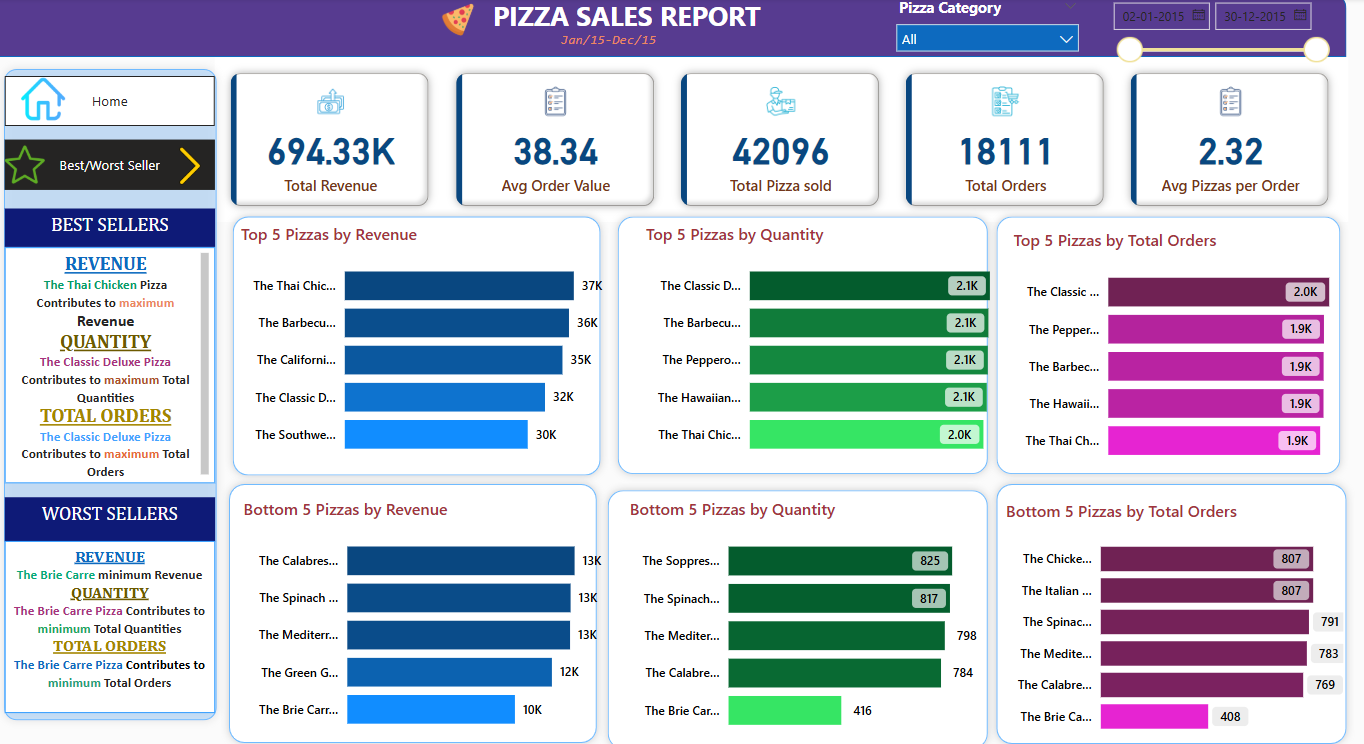

Layout of this report page (visuals, bound fields, positions):
{"tool":"powerbi","page":{"name":"Best/Worst Seller","canvas":[1500,820],"ordinal":1},"visuals":[{"type":"cardVisual","fields":{"Data":["pizza_sales.Total Revenue","pizza_sales.Avg Order Value","pizza_sales.Total Pizza sold","pizza_sales.Total Orders","pizza_sales.Avg Pizzas per Order"]},"box":[218.8,65,1133.8,165],"z":0},{"type":"shape","box":[0,68.8,228.8,667.5],"z":1000},{"type":"shape","box":[0,0,1350,65],"z":2000},{"type":"textbox","box":[475,0,311.2,48.8],"z":3000},{"type":"textbox","box":[475,32.5,275,32.5],"z":4000},{"type":"image","box":[417.5,6.2,88.8,42.5],"z":5000},{"type":"shape","box":[228.8,216.2,410,275],"z":6000},{"type":"textbox","box":[8.8,216.2,210,38.8],"z":7000},{"type":"textbox","box":[8.8,255,210,240],"z":8000},{"type":"textbox","box":[8.8,523.8,210,43.8],"z":9000},{"type":"textbox","box":[8.8,567.5,210,153.8],"z":10000},{"type":"slicer","fields":{"Values":["pizza_sales.pizza_category"]},"box":[890,0,203,65],"z":11000},{"type":"slicer","fields":{"Values":["pizza_sales.order_date"]},"box":[1105,0,236.2,91.2],"z":12000},{"type":"shape","box":[631,216,410,275],"z":13000},{"type":"shape","box":[1034,216,410,275],"z":14000},{"type":"shape","box":[229,491,410,275],"z":15000},{"type":"shape","box":[631,495,410,275],"z":16000},{"type":"shape","box":[1034,491,410,275],"z":17000},{"type":"barChart","title":"Top 5 Pizzas by Revenue","fields":{"Category":["pizza_sales.pizza_name"],"Y":["pizza_sales.Total Revenue"]},"box":[240,230,382.5,247.5],"z":18000},{"type":"barChart","title":"Bottom 5 Pizzas by Revenue","fields":{"Category":["pizza_sales.pizza_name"],"Y":["pizza_sales.Total Revenue"]},"box":[242.5,505,382.5,247.5],"z":19000},{"type":"barChart","title":"Top 5 Pizzas by Quantity","fields":{"Category":["pizza_sales.pizza_name"],"Y":["pizza_sales.Total Pizza sold"]},"box":[645,230,382.5,247.5],"z":20000},{"type":"barChart","title":"Bottom 5 Pizzas by Quantity","fields":{"Category":["pizza_sales.pizza_name"],"Y":["pizza_sales.Total Pizza sold"]},"box":[645,508.8,382.5,247.5],"z":21000},{"type":"barChart","title":"Top 5 Pizzas by Total Orders","fields":{"Category":["pizza_sales.pizza_name"],"Y":["pizza_sales.Total Orders"]},"box":[1047.5,236.2,382.5,247.5],"z":22000},{"type":"barChart","title":"Bottom 5 Pizzas by Total Orders","fields":{"Category":["pizza_sales.pizza_name"],"Y":["pizza_sales.Total Orders"]},"box":[1047.5,505,382.5,247.5],"z":23000},{"type":"pageNavigator","box":[8.8,147.5,210,50],"z":23001},{"type":"pageNavigator","box":[8.8,83.8,210,50],"z":23002},{"type":"image","box":[168.8,150,50,47.5],"z":23003},{"type":"image","box":[18.8,80,57.5,53.8],"z":23004},{"type":"image","box":[0,147.5,57.5,50],"z":23005}]}

Visuals, with their boxes in screenshot pixels (x1, y1, x2, y2), scaled from the page's 1500x820 canvas onto the 1364x744 screenshot:
cardVisual - pizza_sales.Total Revenue x pizza_sales.Avg Order Value: {"x1": 199, "y1": 59, "x2": 1230, "y2": 209}
shape: {"x1": 0, "y1": 62, "x2": 208, "y2": 668}
shape: {"x1": 0, "y1": 0, "x2": 1228, "y2": 59}
textbox: {"x1": 432, "y1": 0, "x2": 715, "y2": 44}
textbox: {"x1": 432, "y1": 29, "x2": 682, "y2": 59}
image: {"x1": 380, "y1": 6, "x2": 460, "y2": 44}
shape: {"x1": 208, "y1": 196, "x2": 581, "y2": 446}
textbox: {"x1": 8, "y1": 196, "x2": 199, "y2": 231}
textbox: {"x1": 8, "y1": 231, "x2": 199, "y2": 449}
textbox: {"x1": 8, "y1": 475, "x2": 199, "y2": 515}
textbox: {"x1": 8, "y1": 515, "x2": 199, "y2": 654}
slicer - pizza_sales.pizza_category: {"x1": 809, "y1": 0, "x2": 994, "y2": 59}
slicer - pizza_sales.order_date: {"x1": 1005, "y1": 0, "x2": 1220, "y2": 83}
shape: {"x1": 574, "y1": 196, "x2": 947, "y2": 445}
shape: {"x1": 940, "y1": 196, "x2": 1313, "y2": 445}
shape: {"x1": 208, "y1": 445, "x2": 581, "y2": 695}
shape: {"x1": 574, "y1": 449, "x2": 947, "y2": 699}
shape: {"x1": 940, "y1": 445, "x2": 1313, "y2": 695}
"Top 5 Pizzas by Revenue" barChart: {"x1": 218, "y1": 209, "x2": 566, "y2": 433}
"Bottom 5 Pizzas by Revenue" barChart: {"x1": 221, "y1": 458, "x2": 568, "y2": 683}
"Top 5 Pizzas by Quantity" barChart: {"x1": 587, "y1": 209, "x2": 934, "y2": 433}
"Bottom 5 Pizzas by Quantity" barChart: {"x1": 587, "y1": 462, "x2": 934, "y2": 686}
"Top 5 Pizzas by Total Orders" barChart: {"x1": 953, "y1": 214, "x2": 1300, "y2": 439}
"Bottom 5 Pizzas by Total Orders" barChart: {"x1": 953, "y1": 458, "x2": 1300, "y2": 683}
pageNavigator: {"x1": 8, "y1": 134, "x2": 199, "y2": 179}
pageNavigator: {"x1": 8, "y1": 76, "x2": 199, "y2": 121}
image: {"x1": 153, "y1": 136, "x2": 199, "y2": 179}
image: {"x1": 17, "y1": 73, "x2": 69, "y2": 121}
image: {"x1": 0, "y1": 134, "x2": 52, "y2": 179}
